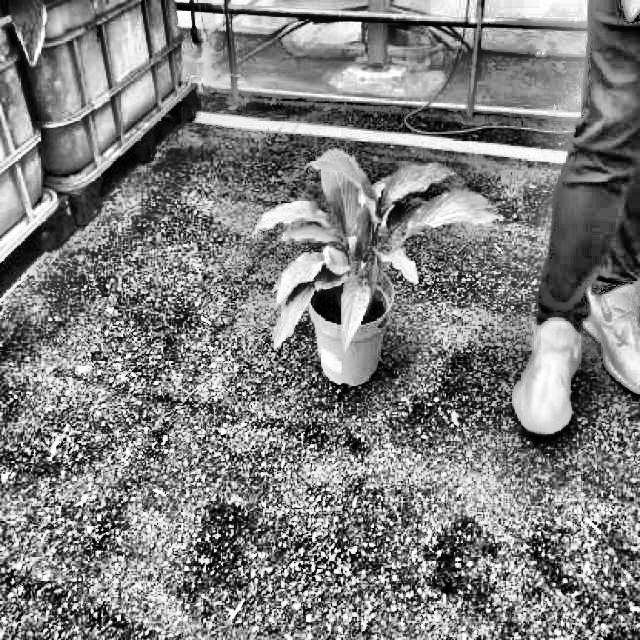plants: (254, 149, 503, 354)
